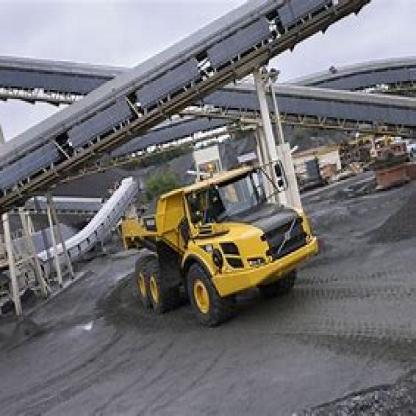dump_truck: (116, 160, 319, 332)
